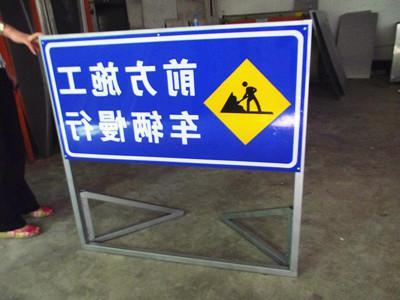sign: (38, 21, 316, 173)
